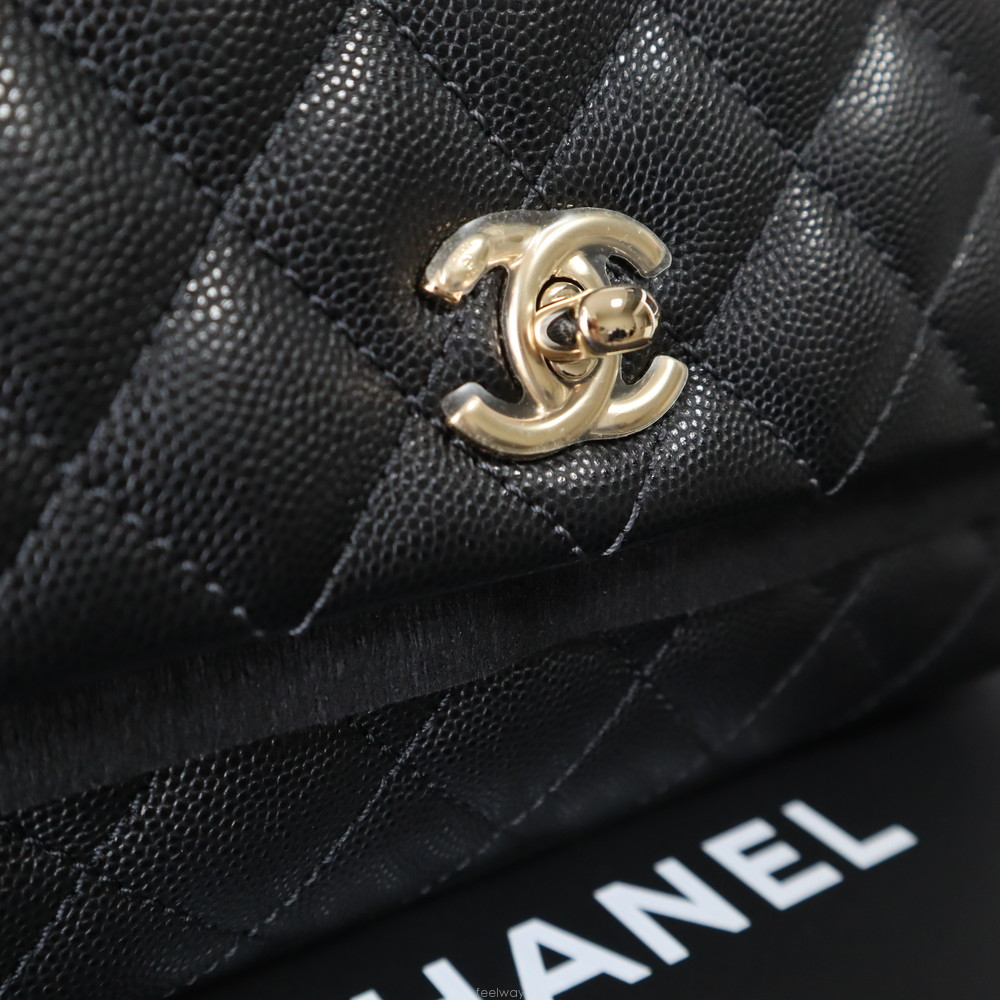channel: (10, 5, 993, 826), (365, 186, 748, 458)
